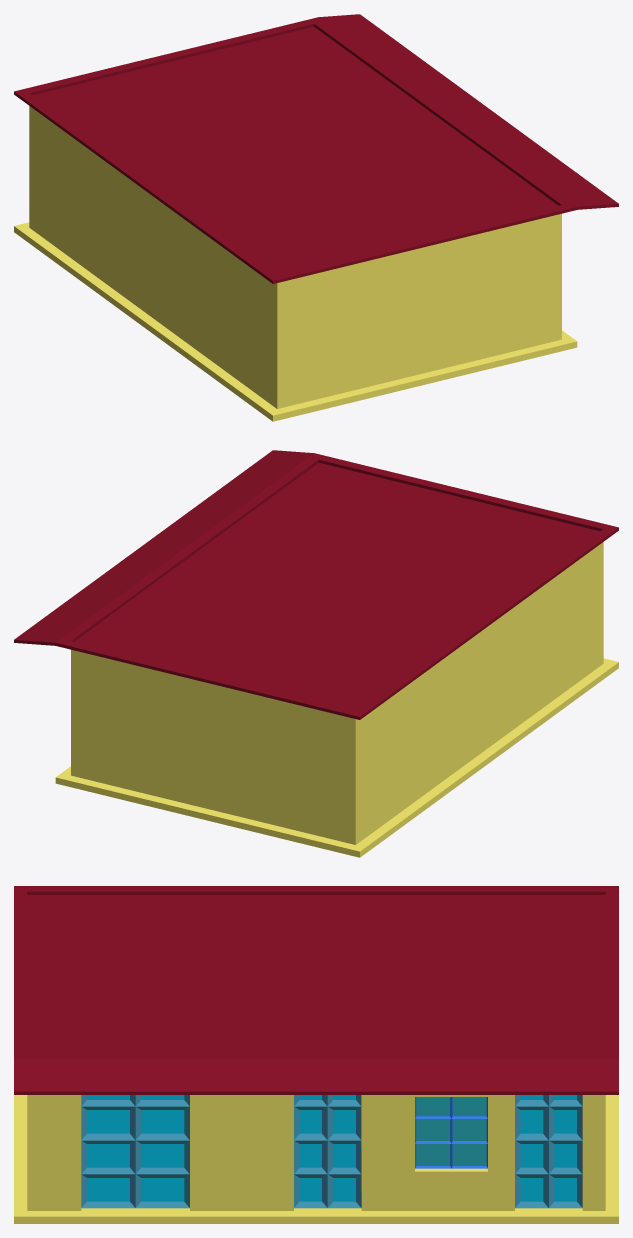
Rendered from shop 2.fbx.
The picture shows the model from 3 angles, top to bottom: view 1: azimuth 30°, elevation 25°; view 2: azimuth 150°, elevation 25°; view 3: azimuth 270°, elevation 25°; orthographic projection. The views are drawn at different scales.
Parts seen in each view (by area): view 1: building_003; view 2: building_003; view 3: building_003.
Part boxes in pixels (left/top/right/bottom): building_003: left=14, top=14, right=618, bottom=421; building_003: left=14, top=450, right=618, bottom=857; building_003: left=14, top=886, right=618, bottom=1223.
Bounding box in the file's own units: 352 × 137 × 457.
